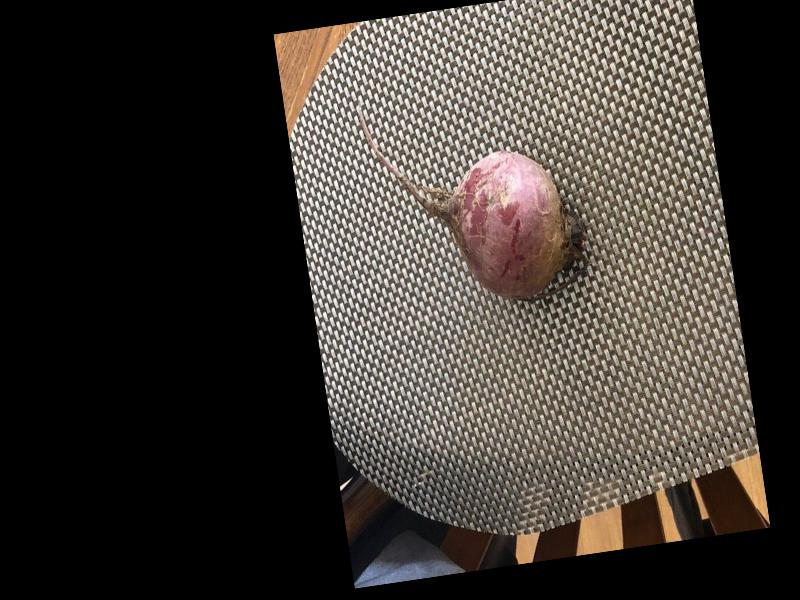Beet: (356, 75, 594, 320)
